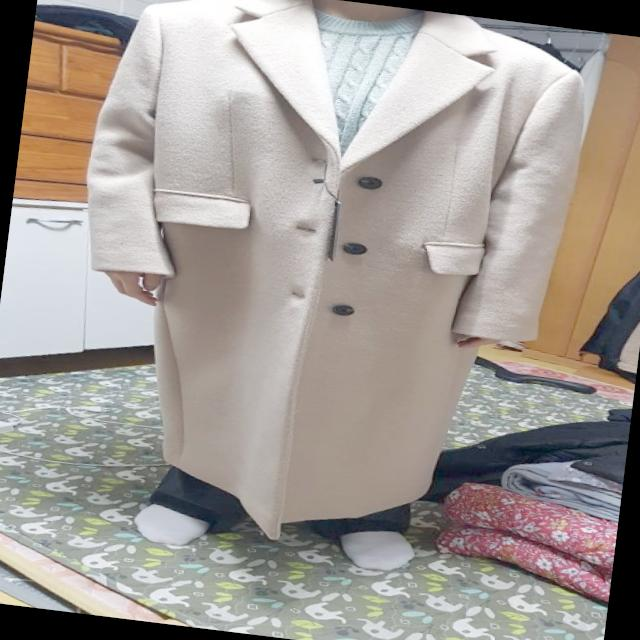coat: (43, 0, 599, 572)
